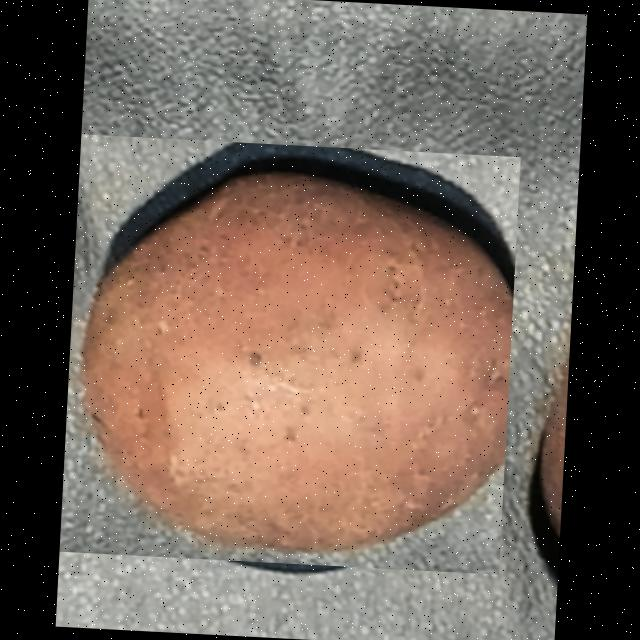Diseased-fungal potato: (58, 134, 520, 574)
